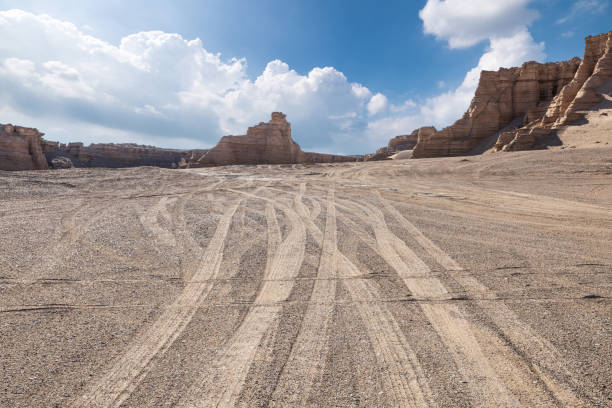vehicle_track: (70, 201, 239, 406), (178, 200, 305, 406), (272, 190, 336, 405), (476, 301, 588, 406)
